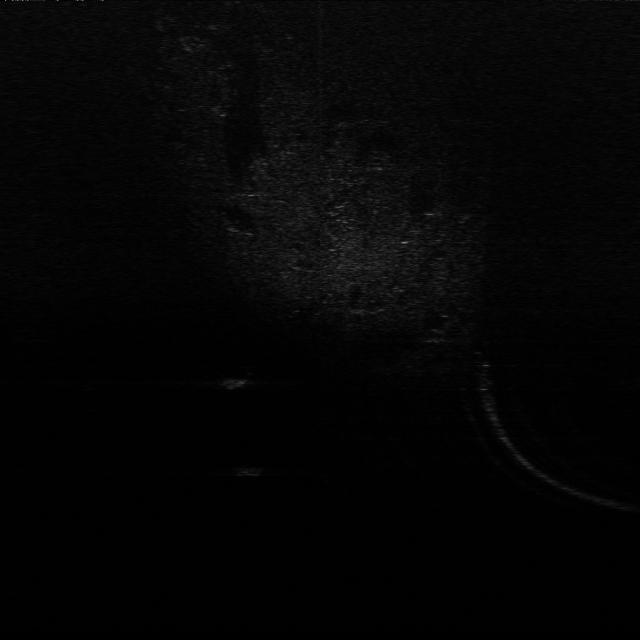cube: (232, 456, 268, 479)
square cage: (217, 367, 258, 392)
